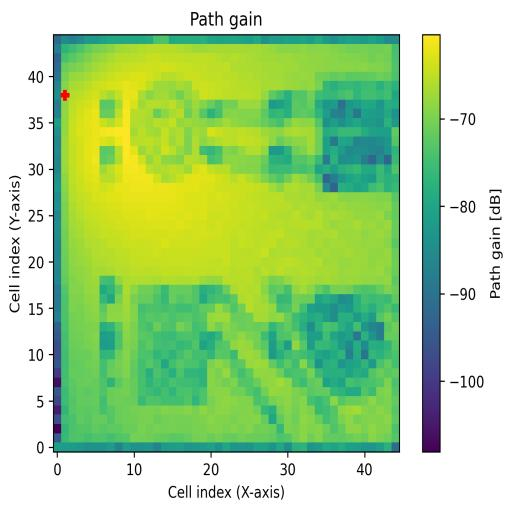Concrete: (314, 84, 392, 192)
Glass: (129, 82, 208, 182)
Metal: (291, 285, 392, 405)
Wood: (130, 285, 215, 408)
